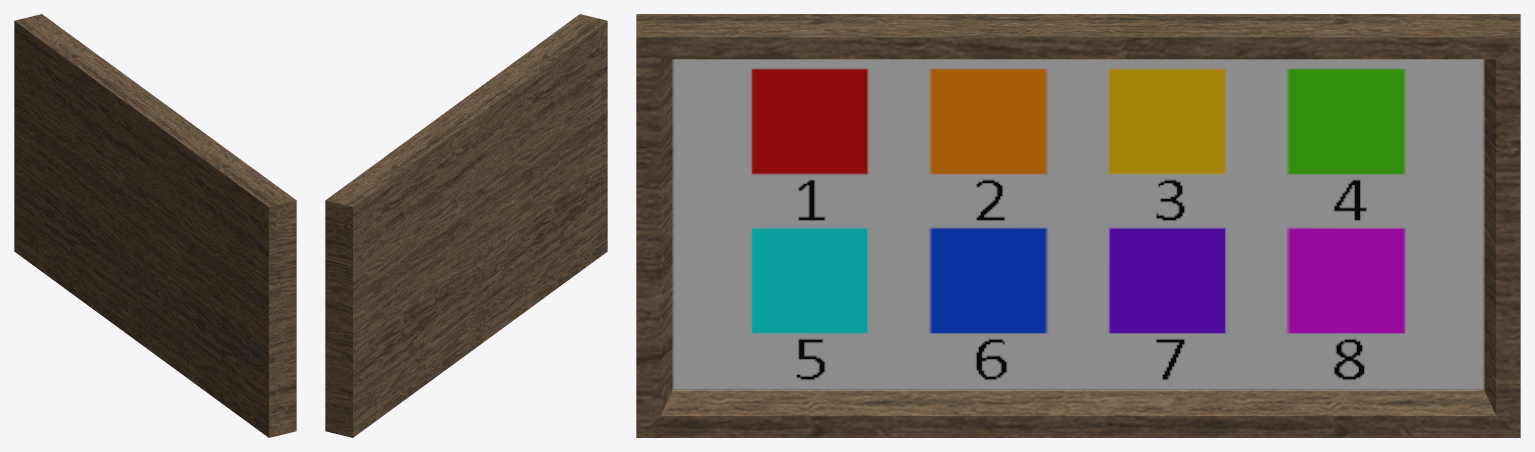
The model's file is Sign Guide 3.fbx.
3 views of the same model, side by side, from view 1: azimuth 30°, elevation 25°; view 2: azimuth 150°, elevation 25°; view 3: azimuth 270°, elevation 25° (orthographic). The views are drawn at different scales.
Visible parts, largest first — view 1: Cube; view 2: Cube; view 3: Cube.
Part boxes in pixels (x1=…): Cube: x1=14, y1=14, x2=296, y2=437; Cube: x1=325, y1=14, x2=607, y2=437; Cube: x1=636, y1=14, x2=1520, y2=437.
Bounding box in the file's own units: 25.06 × 200 × 400.
